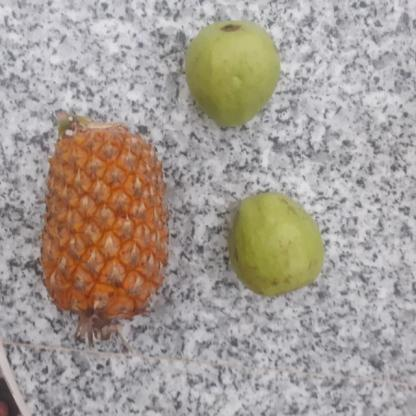guava: (220, 194, 324, 294), (180, 22, 281, 122)
pineapple: (38, 114, 165, 329)
